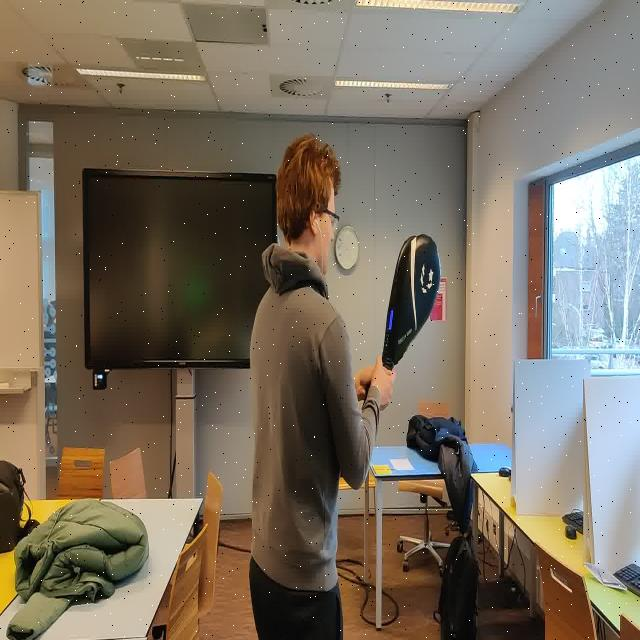paddle: (382, 234, 441, 370)
